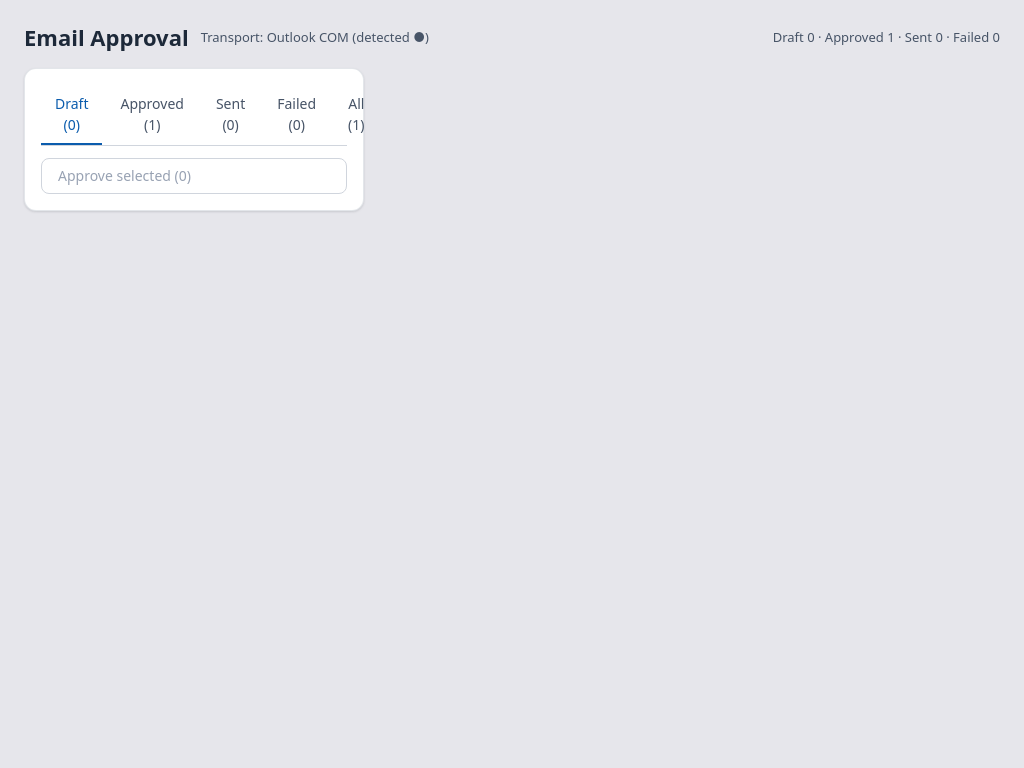
it: EmailApprovalPage transport handoff › shows pending follow-up
Step 1. Click the tab "Approved (1)" → (152,114), box left=106, top=84, right=198, bottom=144
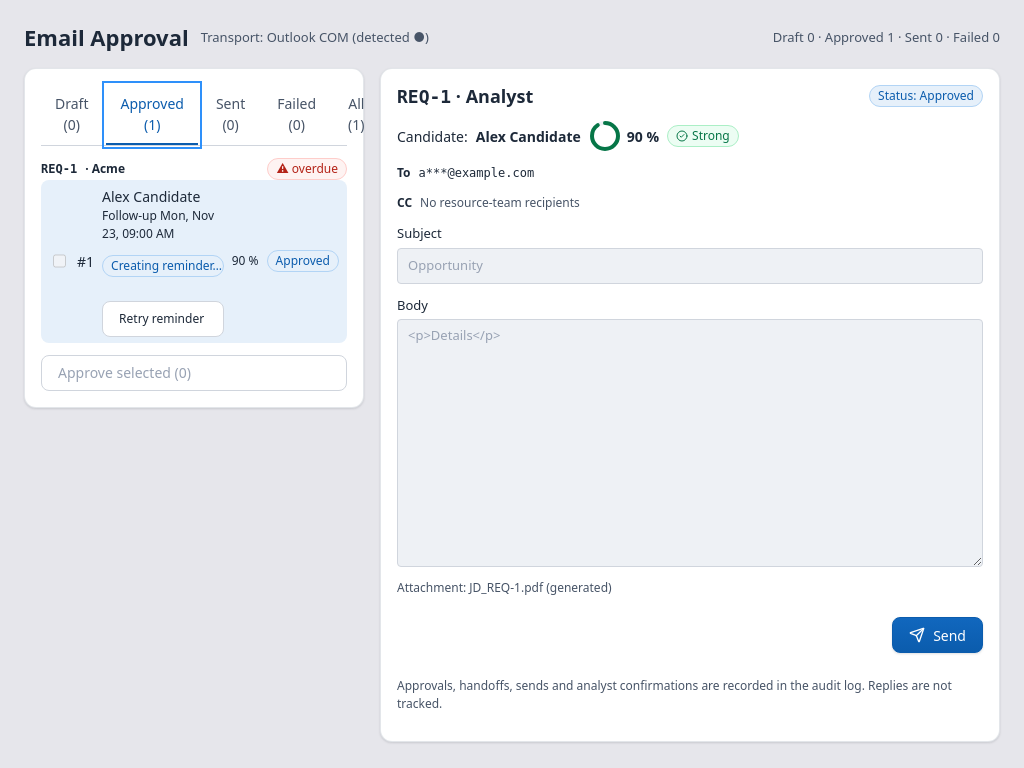
Check: the text "Creating reminder…" is shown, box left=102, top=254, right=224, bottom=276
Check: the text "Follow-up Mon, Nov 23, 09:00 AM" is shown, box left=102, top=206, right=224, bottom=242
